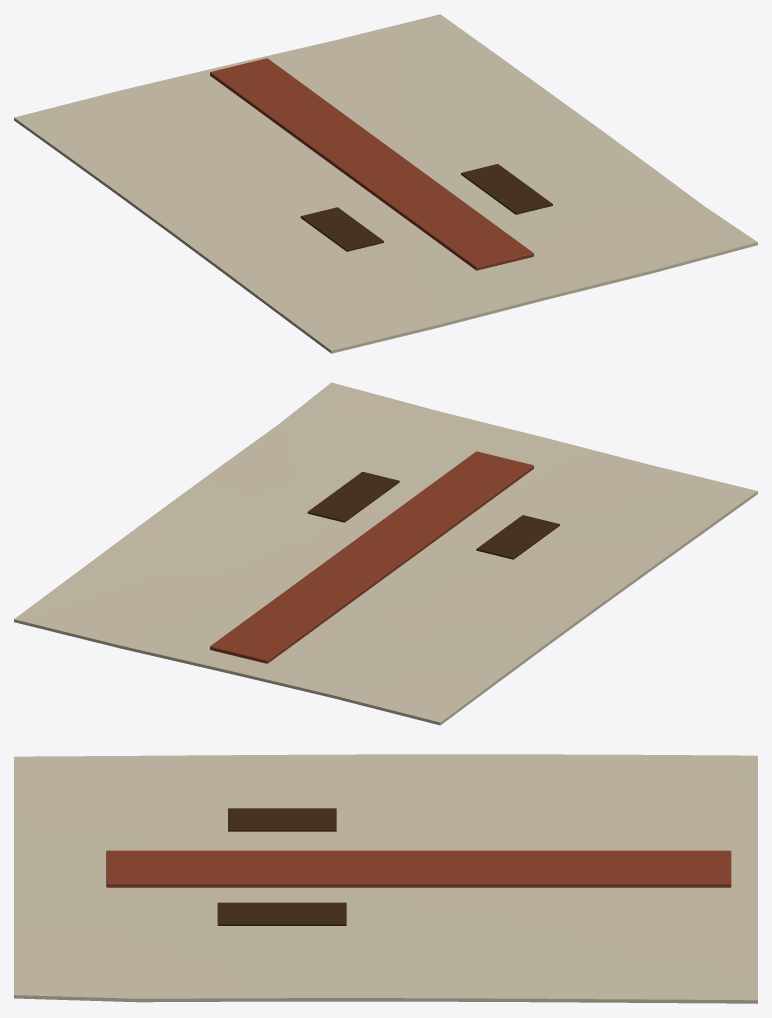
File: memory-socket-lod0.fbx
3 views of the same model, one above another, from view 1: azimuth 30°, elevation 25°; view 2: azimuth 150°, elevation 25°; view 3: azimuth 270°, elevation 25° (orthographic). The views are drawn at different scales.
Parts seen in each view (by area): view 1: Gently curled returned memory page, Laid memory binding strip, Faded name field stroke.002, Faded name field stroke; view 2: Gently curled returned memory page, Laid memory binding strip, Faded name field stroke.002, Faded name field stroke; view 3: Gently curled returned memory page, Laid memory binding strip, Faded name field stroke.002, Faded name field stroke.
Part boxes in pixels (box(x1,y1,x2,y2)): Gently curled returned memory page: box(14, 14, 757, 353); Laid memory binding strip: box(210, 58, 533, 270); Faded name field stroke.002: box(461, 164, 552, 214); Faded name field stroke: box(300, 207, 383, 251); Gently curled returned memory page: box(14, 382, 757, 725); Laid memory binding strip: box(210, 451, 533, 663); Faded name field stroke.002: box(307, 471, 399, 522); Faded name field stroke: box(476, 515, 559, 559); Gently curled returned memory page: box(14, 754, 757, 1003); Laid memory binding strip: box(106, 850, 731, 887); Faded name field stroke.002: box(217, 902, 346, 925); Faded name field stroke: box(228, 808, 336, 831).
Bounding box in the file's own units: 22.8 × 0.67 × 29.4.
